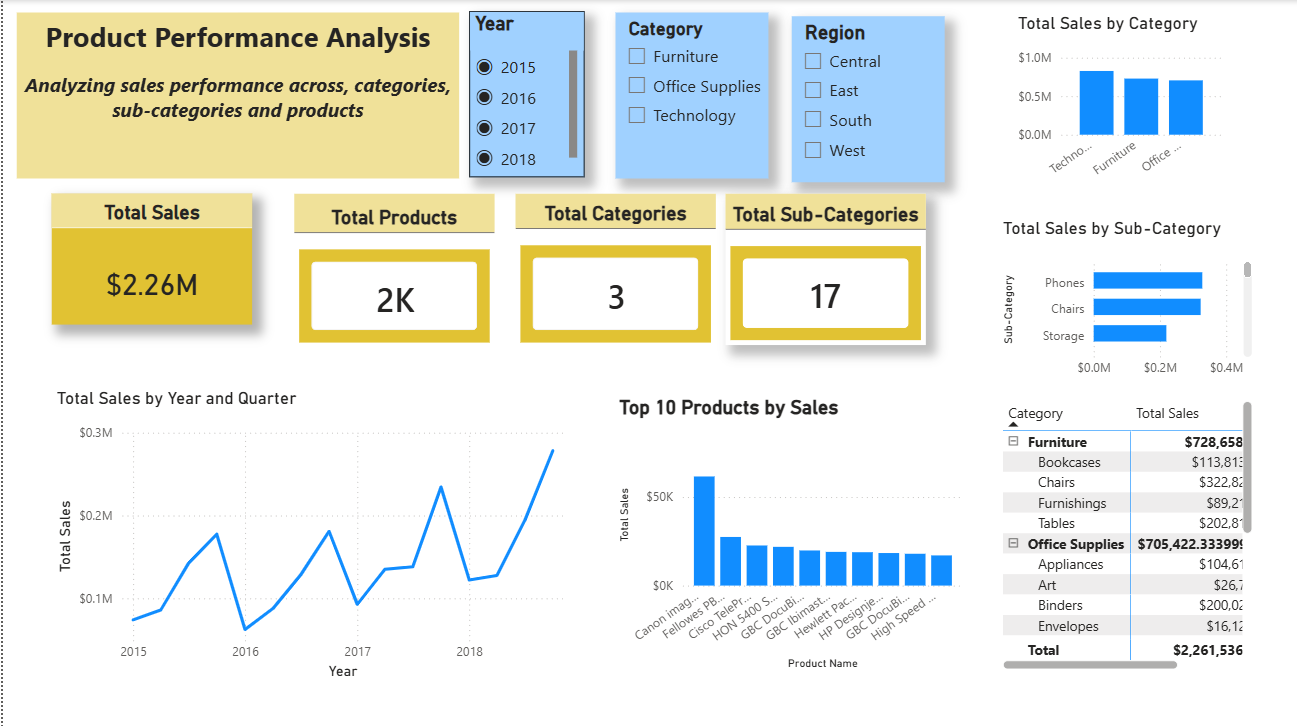

This screenshot's page, from the dashboard's own definition file:
{"tool":"powerbi","page":{"name":"Page 2 - Product Performance","canvas":[1280,720],"ordinal":1},"visuals":[{"type":"textbox","box":[10.8,0,432.8,162.3],"z":0},{"type":"listSlicer","fields":{"Values":["train.Order Date.Variation.Date Hierarchy.Year"]},"box":[455.9,0,112.8,162.3],"z":1000},{"type":"slicer","fields":{"Values":["train.Category"]},"box":[598.1,0,149.9,162.3],"z":2000},{"type":"slicer","fields":{"Values":["train.Region"]},"box":[771.2,0,149.9,162.3],"z":3000},{"type":"card","title":"Total Sales","fields":{"Values":["train.Total Sales"]},"box":[47.9,190.1,196.3,128.3],"z":4000},{"type":"cardVisual","title":"Total Products","fields":{"Data":["train.Total Products"]},"box":[284.4,190.1,196,150],"z":5000},{"type":"cardVisual","title":"Total Categories","fields":{"Data":["train.Total Categories"]},"box":[500.8,190.1,196,150],"z":6000},{"type":"cardVisual","title":"Total Sub-Categories","fields":{"Data":["train.Total Sub-Categories"]},"box":[706.3,190.1,196.3,148.4],"z":7000},{"type":"clusteredColumnChart","fields":{"Category":["train.Category"],"Y":["train.Total Sales"]},"box":[987.6,12.4,210.2,171.6],"z":8000},{"type":"barChart","fields":{"Category":["train.Sub-Category"],"Y":["train.Total Sales"]},"box":[973.7,213.3,253.5,165.4],"z":9000},{"type":"columnChart","title":"Top 10 Products by Sales","fields":{"Category":["train.Product Name"],"Y":["train.Total Sales","train.Total Sales"]},"box":[598.1,387.9,346.2,272],"z":10000},{"type":"lineChart","fields":{"Category":["train.Order Date.Variation.Date Hierarchy.Year","train.Order Date.Variation.Date Hierarchy.Quarter","train.Order Date.Variation.Date Hierarchy.Month","train.Order Date.Variation.Date Hierarchy.Day"],"Y":["train.Total Sales"]},"box":[47.9,378.7,508.5,290.6],"z":11000},{"type":"pivotTable","fields":{"Rows":["train.Category","train.Sub-Category"],"Values":["train.Total Sales"]},"box":[973.7,387.9,253.5,272],"z":12000}]}

Visuals, with their boxes in screenshot pixels (x1, y1, x2, y2), scaled from the page's 1280x720 canvas onto the 1297x727 screenshot:
textbox: l=11, t=0, r=449, b=164
listSlicer - train.Order Date.Variation.Date Hierarchy.Year: l=462, t=0, r=576, b=164
slicer - train.Category: l=606, t=0, r=758, b=164
slicer - train.Region: l=781, t=0, r=933, b=164
"Total Sales" card: l=49, t=192, r=247, b=321
"Total Products" cardVisual: l=288, t=192, r=487, b=343
"Total Categories" cardVisual: l=507, t=192, r=706, b=343
"Total Sub-Categories" cardVisual: l=716, t=192, r=915, b=342
clusteredColumnChart - train.Category x train.Total Sales: l=1001, t=13, r=1214, b=186
barChart - train.Sub-Category x train.Total Sales: l=987, t=215, r=1243, b=382
"Top 10 Products by Sales" columnChart: l=606, t=392, r=957, b=666
lineChart - train.Order Date.Variation.Date Hierarchy.Year x train.Order Date.Variation.Date Hierarchy.Quarter: l=49, t=382, r=564, b=676
pivotTable - train.Category x train.Sub-Category: l=987, t=392, r=1243, b=666
